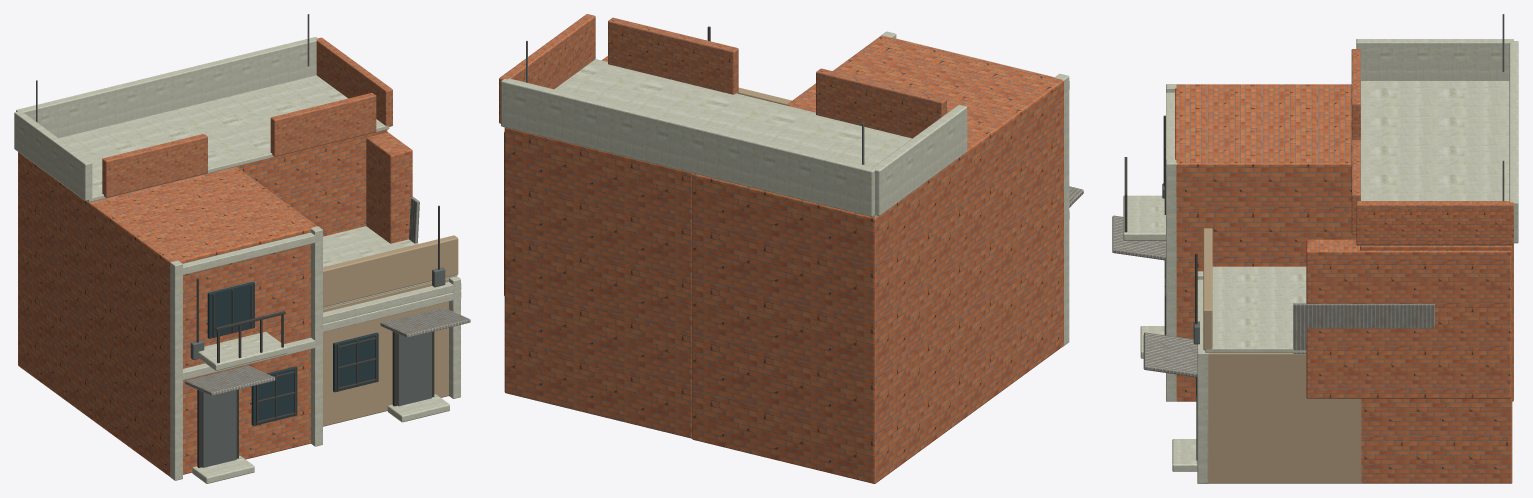
File: lajes_modulo_b.glb
3 renders of one model, left to right at view 1: azimuth 30°, elevation 25°; view 2: azimuth 150°, elevation 25°; view 3: azimuth 270°, elevation 25°, orthographic. The views are drawn at different scales.
Parts seen in each view (by area): view 1: lajes_modulo_b; view 2: lajes_modulo_b; view 3: lajes_modulo_b.
Boxes of the visible parts, x1,y1,x2,y2 form: lajes_modulo_b: (14, 14, 470, 483); lajes_modulo_b: (499, 14, 1083, 483); lajes_modulo_b: (1112, 14, 1518, 483).
Size of the model in its own units: 7.48 by 6.62 by 7.73.
8 materials, 3 textured.
